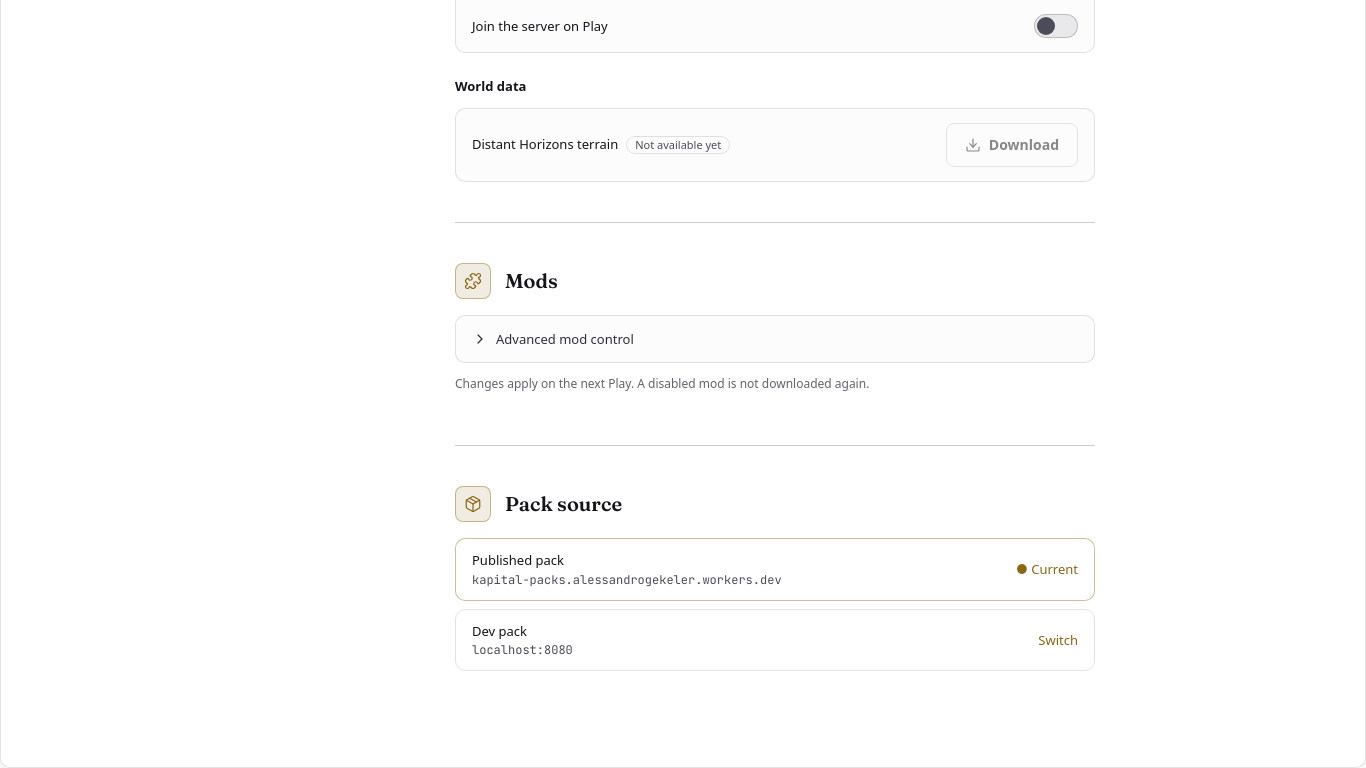
Test case: ChapterSettingsPanel › pack source › shows a refusal in the section and keeps the choice as it was
(page scrolled)
What coordinates should you click on to do the following:
click the radio button labelled "Dev pack"
I would click on:
 (500, 631)
Its box is [455,609,1095,671].
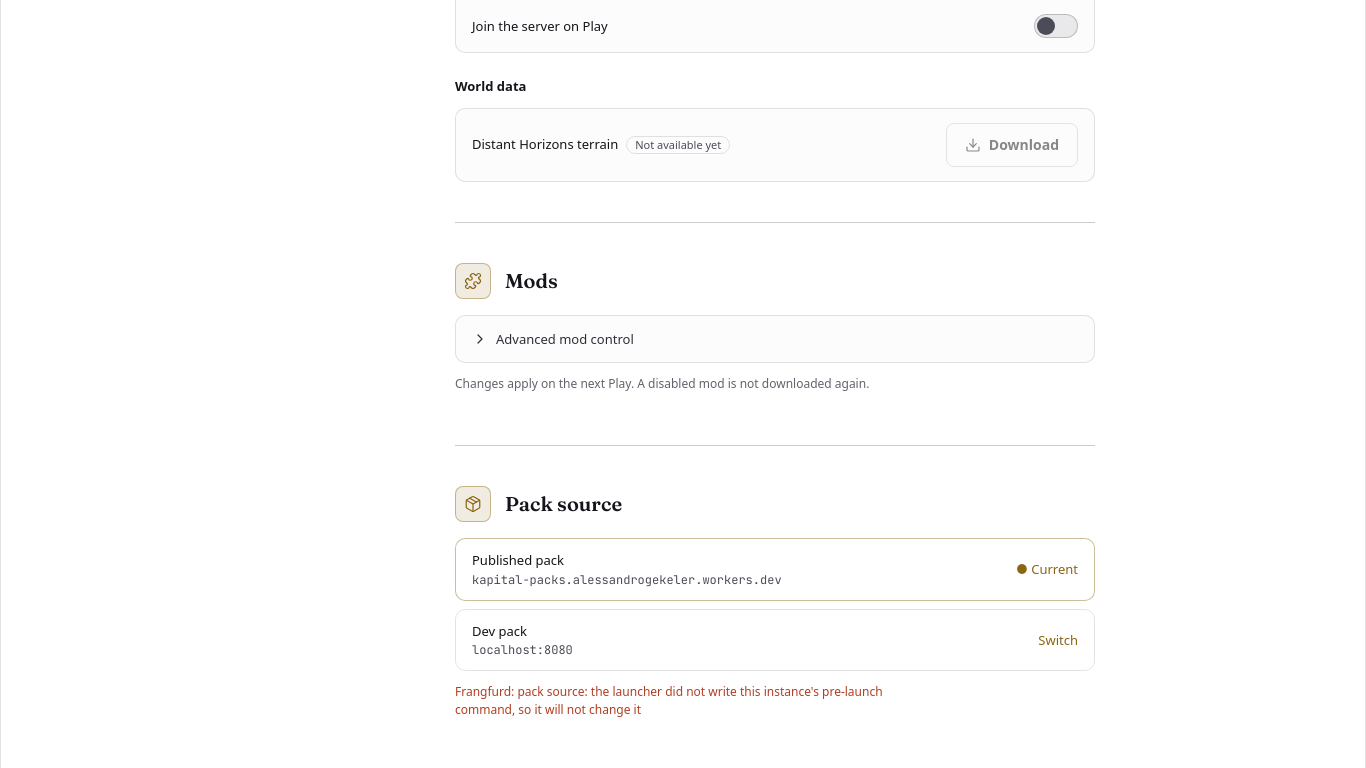
Expected: the radio button labelled "Published pack" is checked, [455,538,1095,601]
Expected: the text "did not write" is shown, [455,683,883,718]
